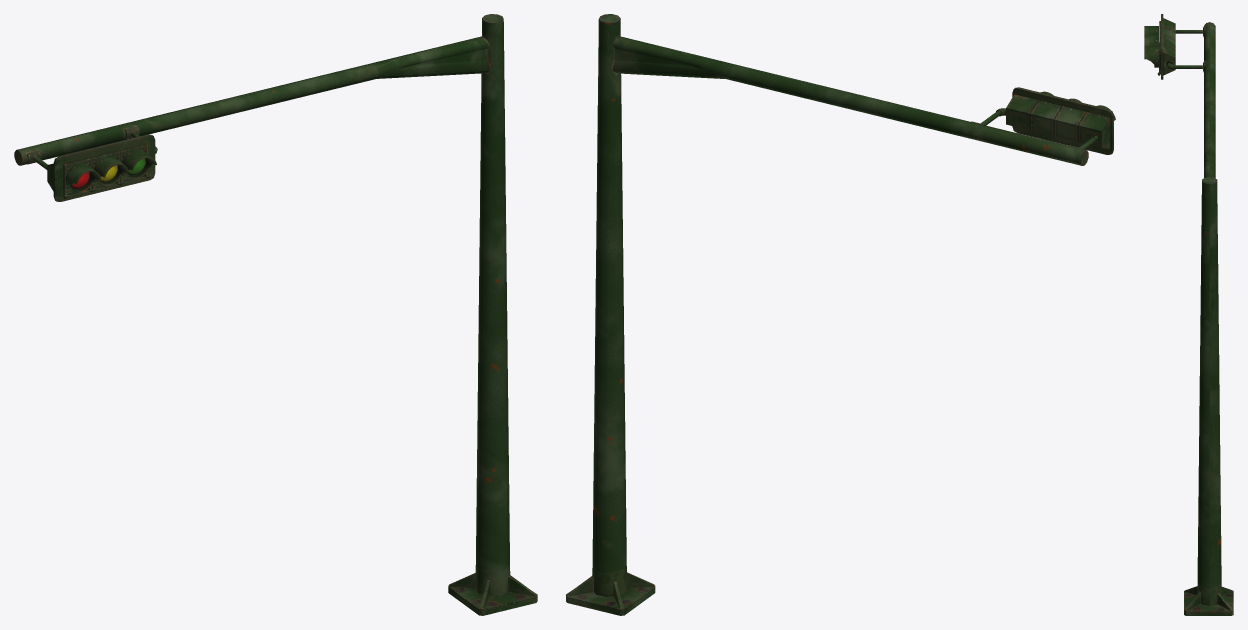
Rendered from TrafficLightTall.FBX.
3 views of the same model, side by side, from view 1: azimuth 30°, elevation 25°; view 2: azimuth 150°, elevation 25°; view 3: azimuth 270°, elevation 25° (orthographic). The views are drawn at different scales.
Visible parts, largest first — view 1: TrafficLight_Low; view 2: TrafficLight_Low; view 3: TrafficLight_Low.
Boxes of the visible parts, x1,y1,x2,y2 form: TrafficLight_Low: (14,14,537,615); TrafficLight_Low: (566,14,1115,615); TrafficLight_Low: (1144,14,1233,615).
Size of the model in its own units: 1427 by 1570 by 299.
